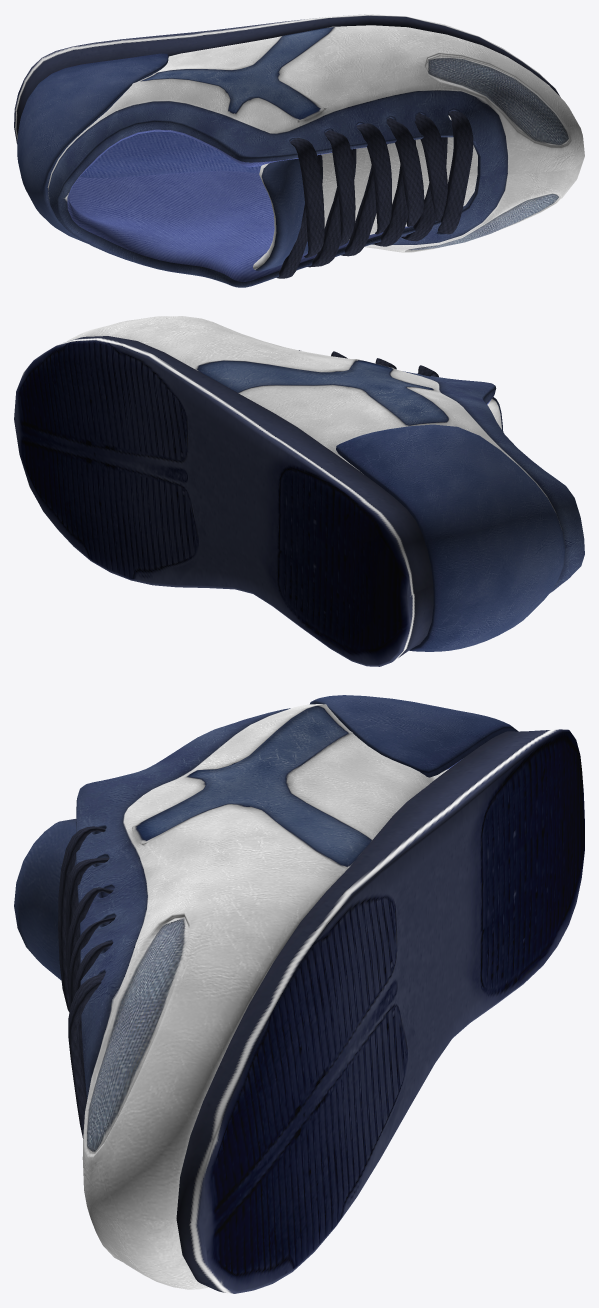
The model's file is shoe2L.obj.
The picture shows the model from 3 angles, top to bottom: view 1: azimuth 30°, elevation 25°; view 2: azimuth 150°, elevation 25°; view 3: azimuth 270°, elevation 25°; orthographic projection. The views are drawn at different scales.
Parts seen in each view (by area): view 1: shoe; view 2: shoe; view 3: shoe.
Boxes of the visible parts, x1,y1,x2,y2 form: shoe: (14, 14, 584, 287); shoe: (14, 316, 584, 666); shoe: (14, 695, 584, 1293).
Size of the model in its own units: 296 by 118 by 180.
